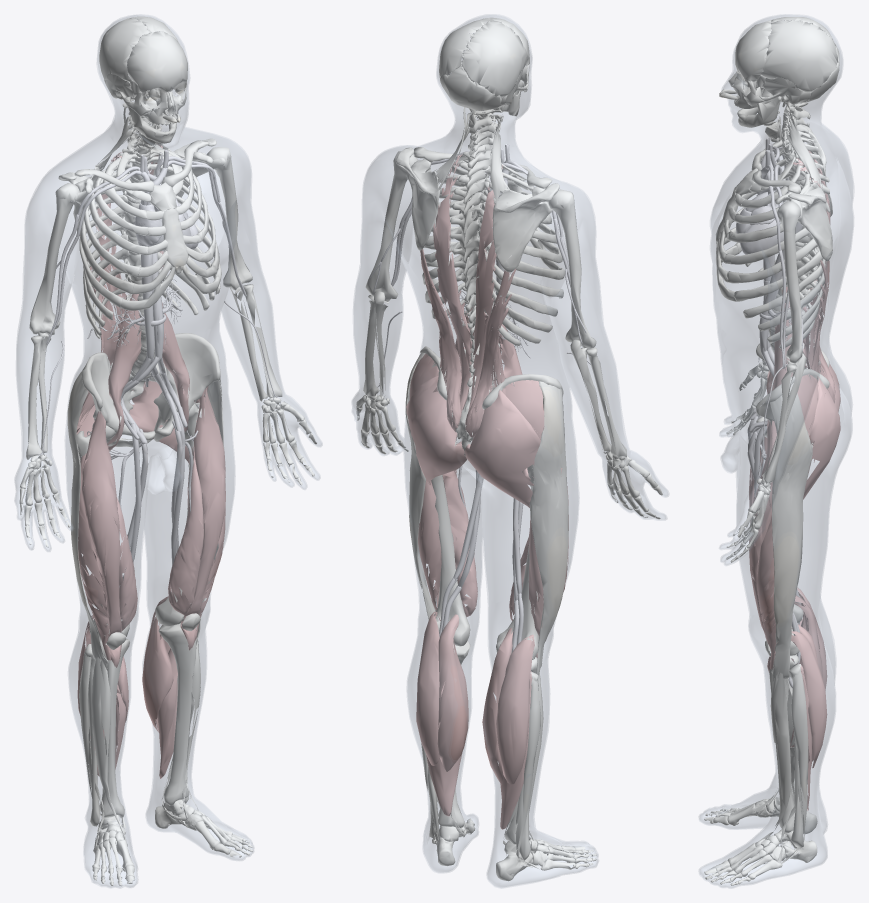
The model's file is aegis-body.glb.
The picture shows the model from 3 angles, left to right: view 1: azimuth 30°, elevation 25°; view 2: azimuth 150°, elevation 25°; view 3: azimuth 270°, elevation 25°; orthographic projection. The views are drawn at different scales.
Visible parts, largest first — view 1: whole_body, bones, muscle_antigravity, bones_loadbearing, blood, heart; view 2: whole_body, muscle_antigravity, bones, bones_loadbearing, blood; view 3: whole_body, bones, muscle_antigravity, bones_loadbearing, blood, heart.
Boxes of the visible parts, x1,y1,x2,y2 form: whole_body: [14, 14, 322, 888]; bones: [19, 16, 316, 885]; muscle_antigravity: [76, 143, 225, 778]; bones_loadbearing: [67, 294, 225, 845]; blood: [38, 149, 278, 609]; heart: [133, 202, 198, 251]; whole_body: [351, 14, 669, 888]; muscle_antigravity: [406, 154, 568, 829]; bones: [356, 17, 662, 870]; bones_loadbearing: [405, 309, 568, 881]; blood: [368, 144, 610, 652]; whole_body: [698, 14, 854, 888]; bones: [704, 17, 839, 885]; muscle_antigravity: [749, 150, 840, 810]; bones_loadbearing: [753, 297, 829, 862]; blood: [745, 137, 802, 688]; heart: [736, 191, 783, 254].
Size of the model in its own units: 0.6668 by 1.72 by 0.2921.
